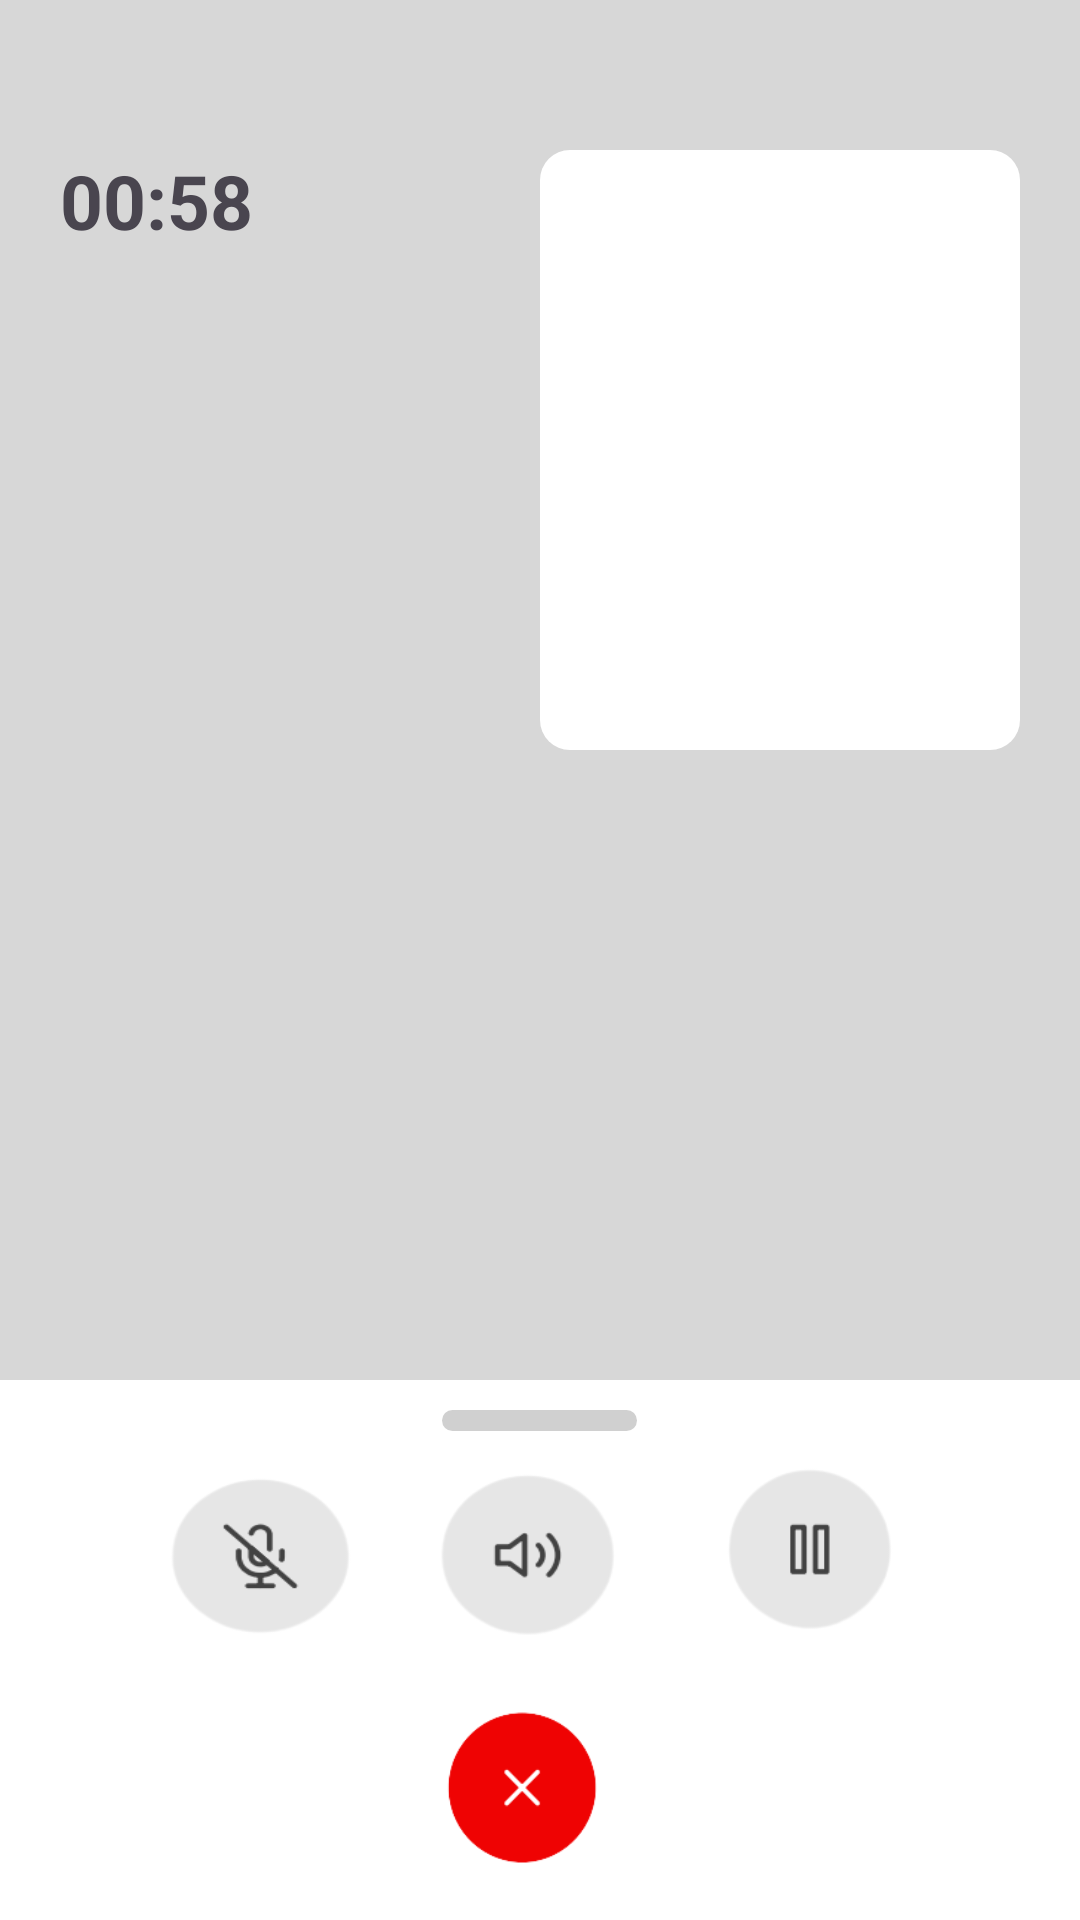

Where icons sit on this 1080×1920 app screen, as bbox=[x1, y1, x2, y2]:
micoff: bbox=[175, 1482, 346, 1630]
pause: bbox=[731, 1472, 888, 1626]
redcancel: bbox=[448, 1712, 596, 1863]
speaker: bbox=[444, 1478, 611, 1632]
